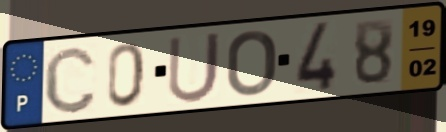0: (105, 41, 148, 109)
4: (293, 19, 341, 95)
8: (351, 17, 396, 88)
C: (42, 43, 99, 116)
O: (225, 28, 279, 99)
U: (165, 28, 225, 105)
